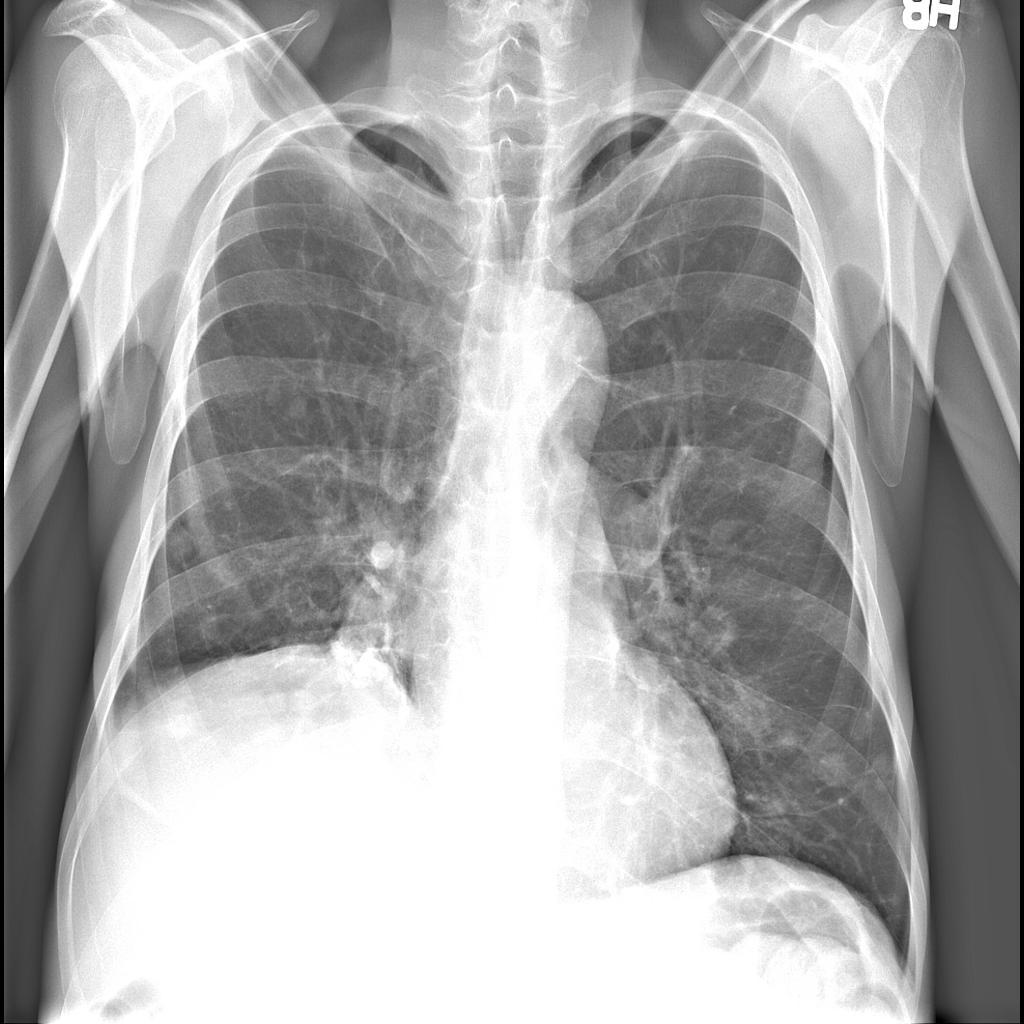Nodule: (816, 754, 859, 799), (708, 513, 744, 554), (286, 392, 318, 429)
